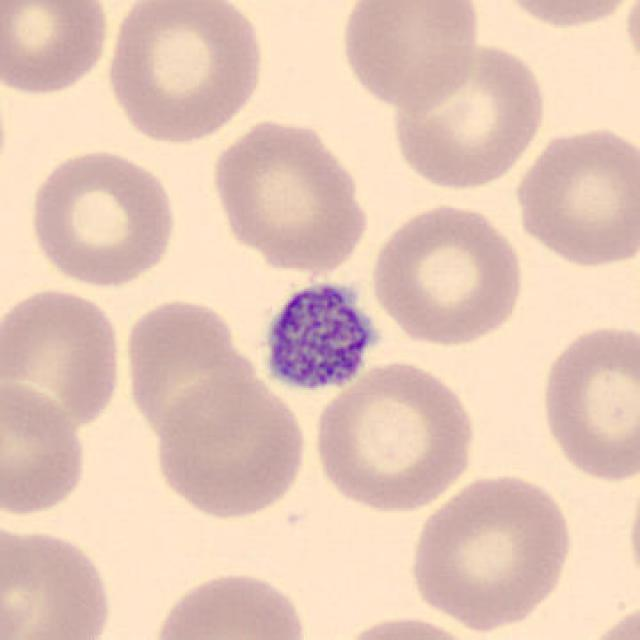Platelets: (258, 276, 380, 396)
RBC: (403, 469, 578, 633), (308, 356, 482, 515), (206, 115, 374, 275), (149, 370, 311, 524), (366, 199, 528, 351), (388, 41, 550, 192), (101, 0, 268, 146), (25, 145, 181, 289), (119, 293, 251, 446), (508, 118, 638, 272), (0, 282, 128, 436), (535, 317, 638, 487), (336, 0, 484, 113), (0, 520, 117, 640), (0, 377, 91, 520), (146, 566, 313, 640), (0, 0, 114, 99), (489, 0, 640, 32), (329, 612, 487, 640), (578, 596, 640, 640), (624, 464, 640, 604), (620, 0, 640, 88)
